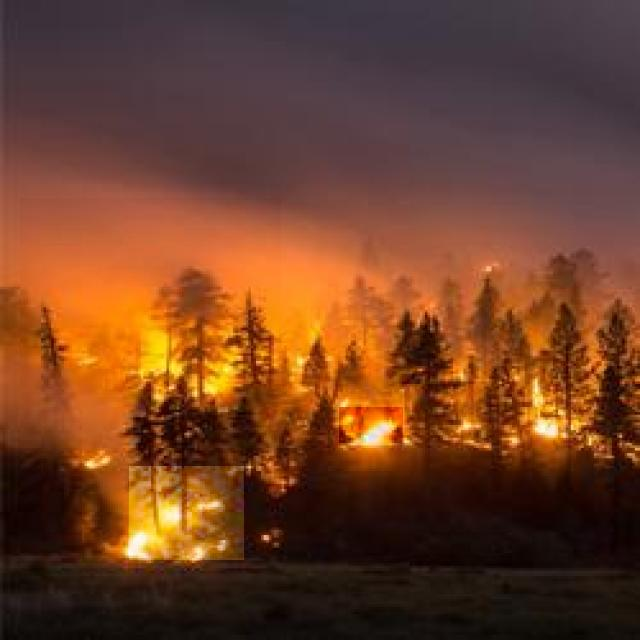Fire: (129, 466, 244, 560), (339, 407, 403, 443)
Smoke: (19, 198, 281, 395)
